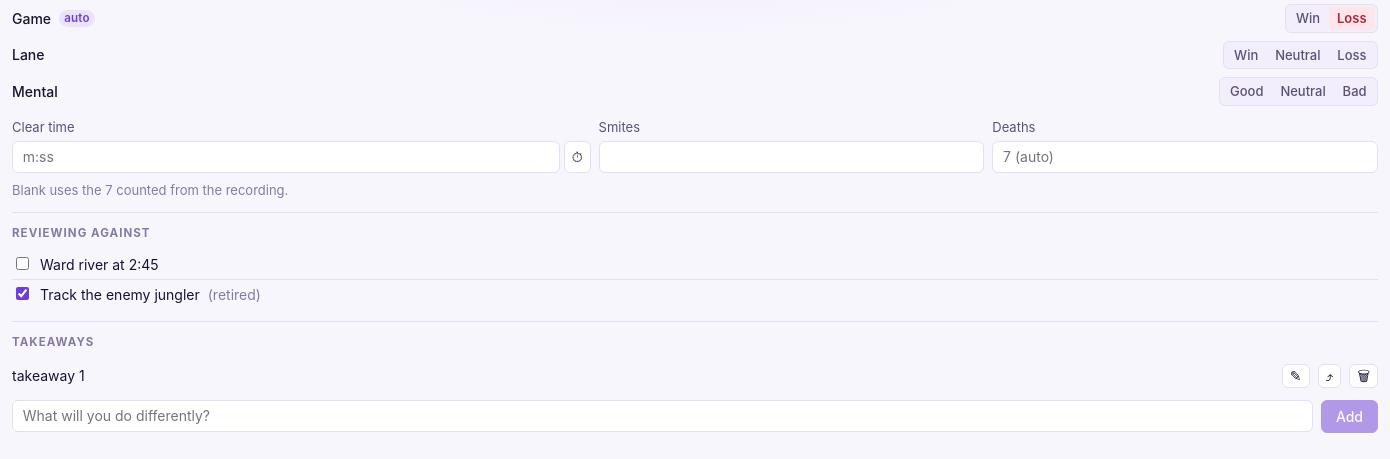
Test case: takeaways › puts the text back on Escape, and the key goes no further
Click the button named "Edit takeaway".
click(1296, 376)  # box 1282,364 -> 1310,388
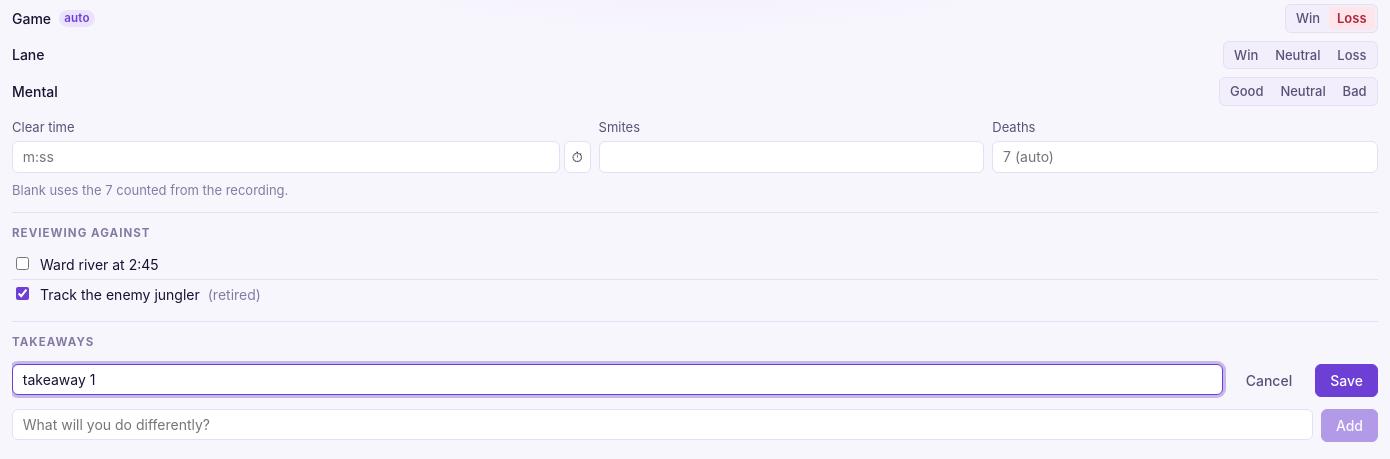
Replace the text in the text box named "Takeaway" with "half a thought" at {"x": 617, "y": 379}, box 12,364 -> 1223,395
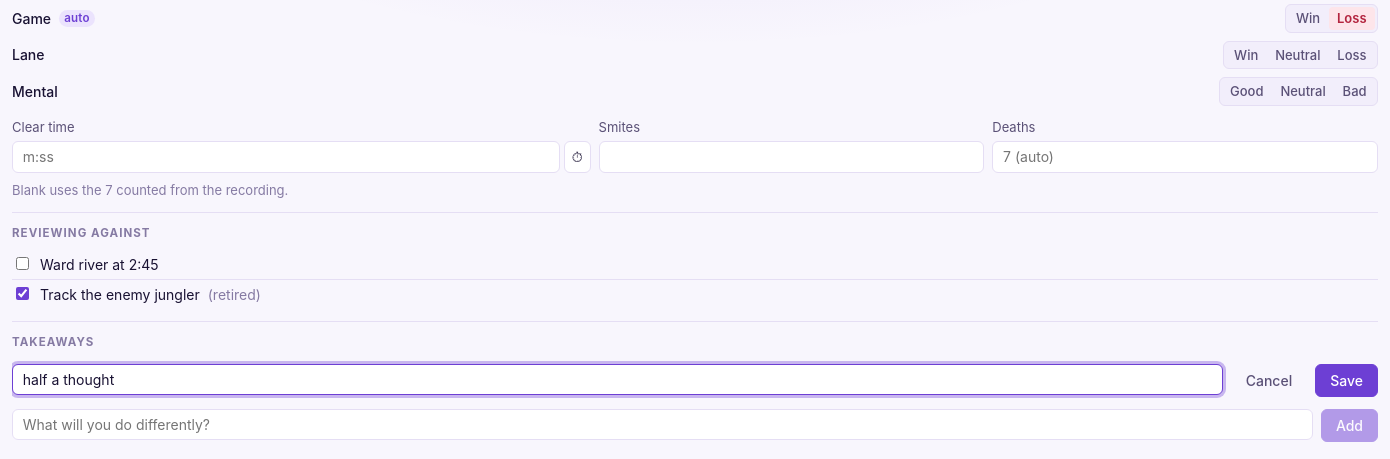
Press Escape in the text box named "Takeaway", box 12,364 -> 1223,395
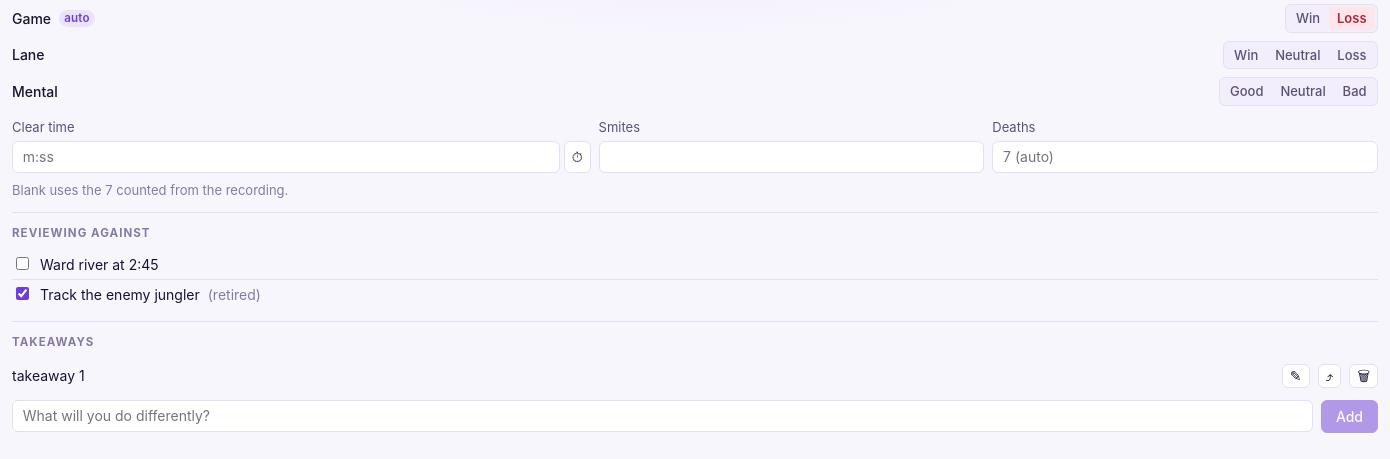
Expected: the text with class "takeaway-body" reads "takeaway 1", 12,367 -> 85,384
